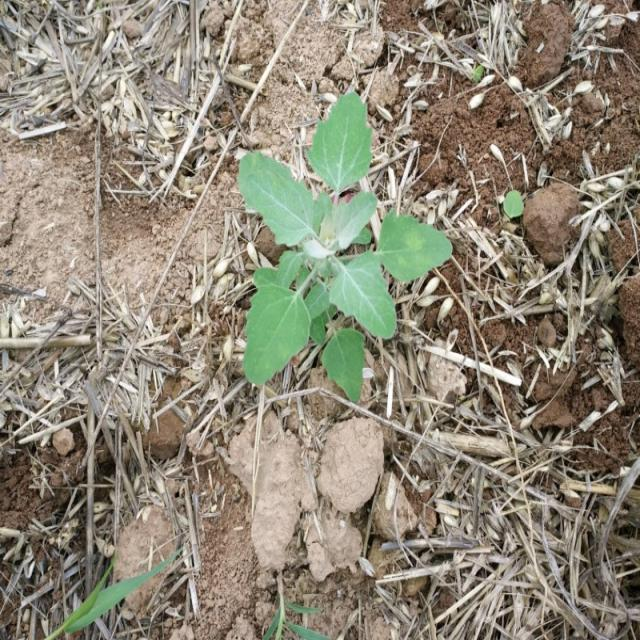ca: (234, 91, 452, 396)
